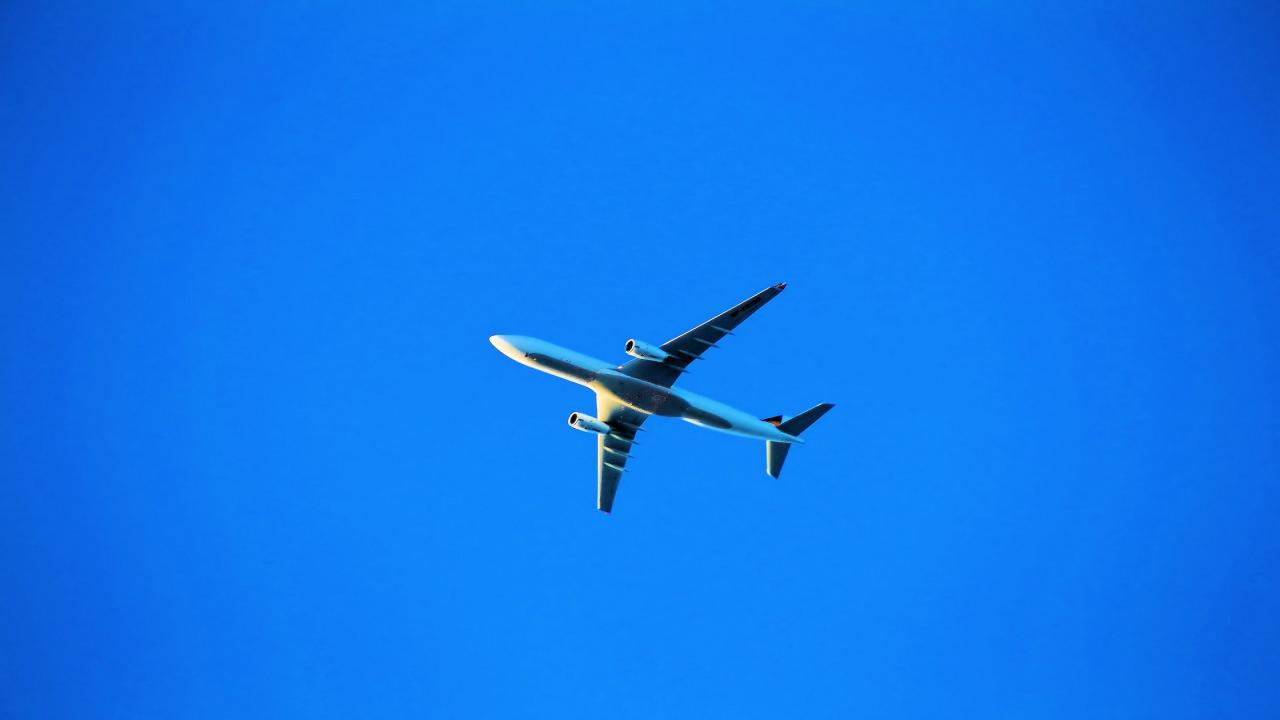Airplane: (471, 268, 849, 524)
